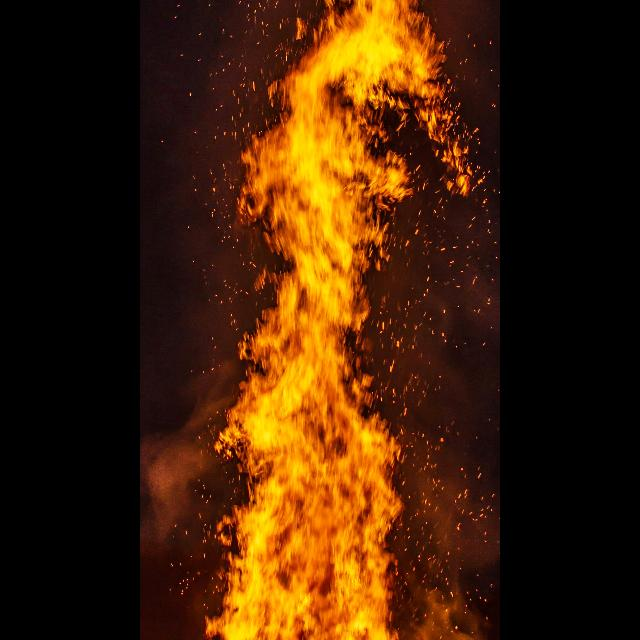fire: (210, 0, 468, 640)
